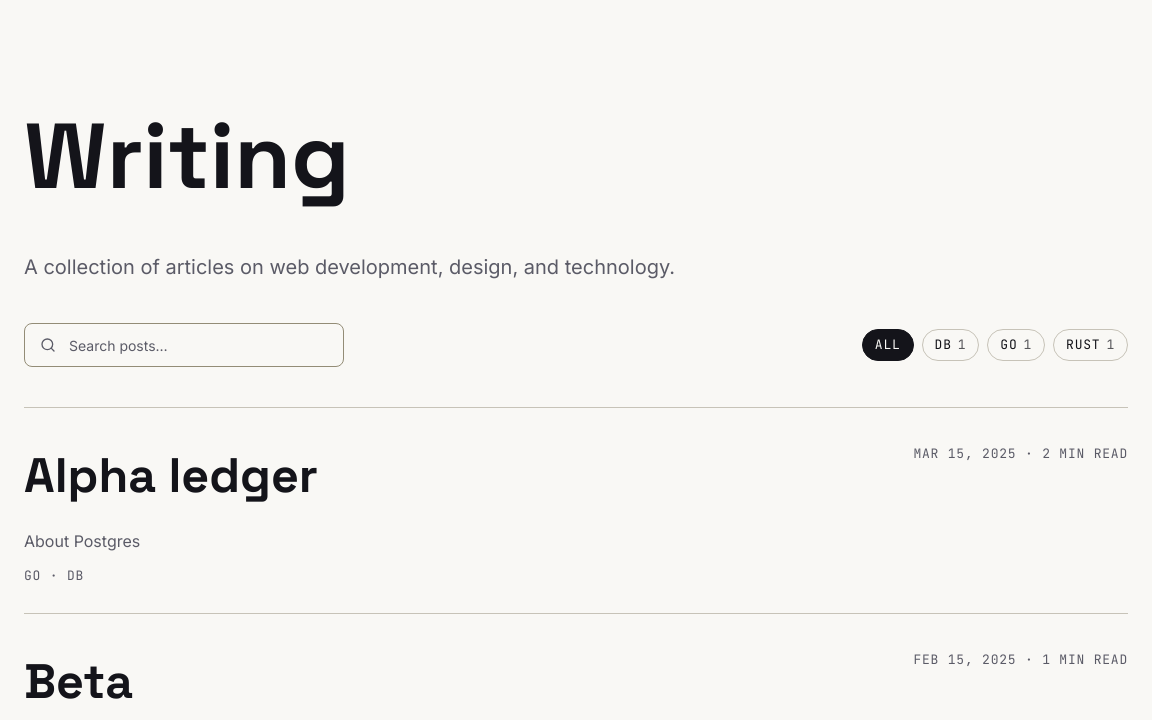
ImmersiveBlog › narrows the list as you search, and restores it
This screenshot has width=1152, height=720.
Type "postgres" into the search field labelled "Search posts" at [184, 345], box [24, 323, 344, 367]
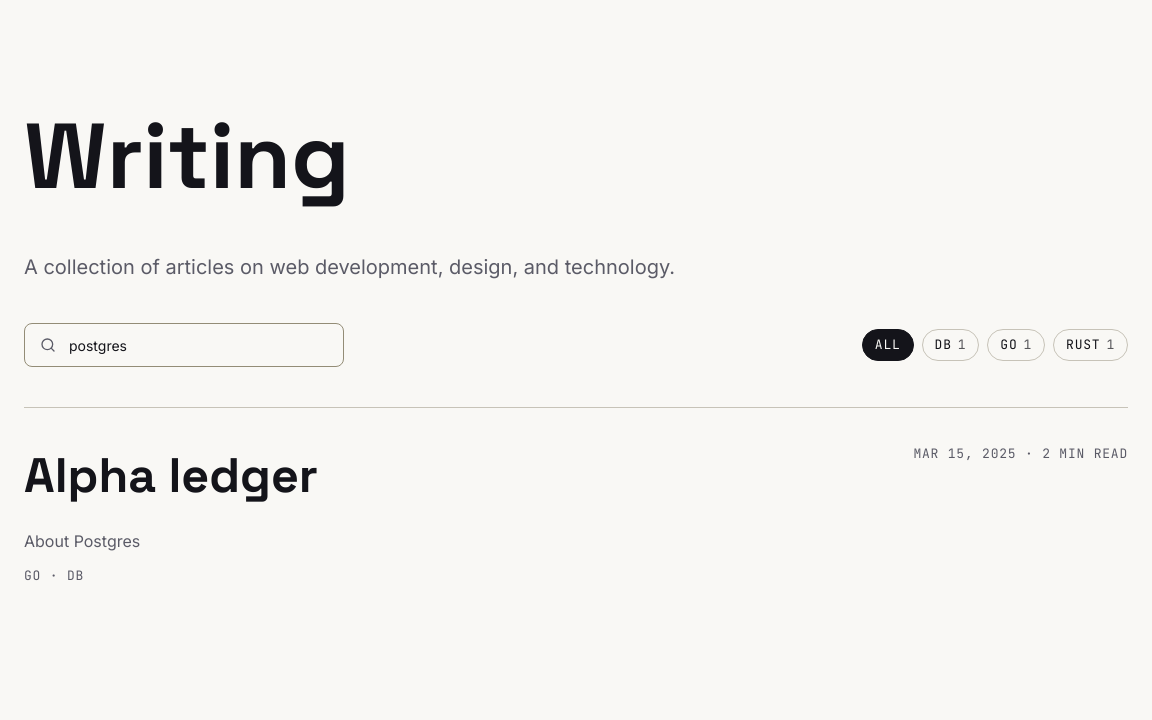
Clear the search field named "Search posts" at [184, 345], box [24, 323, 344, 367]
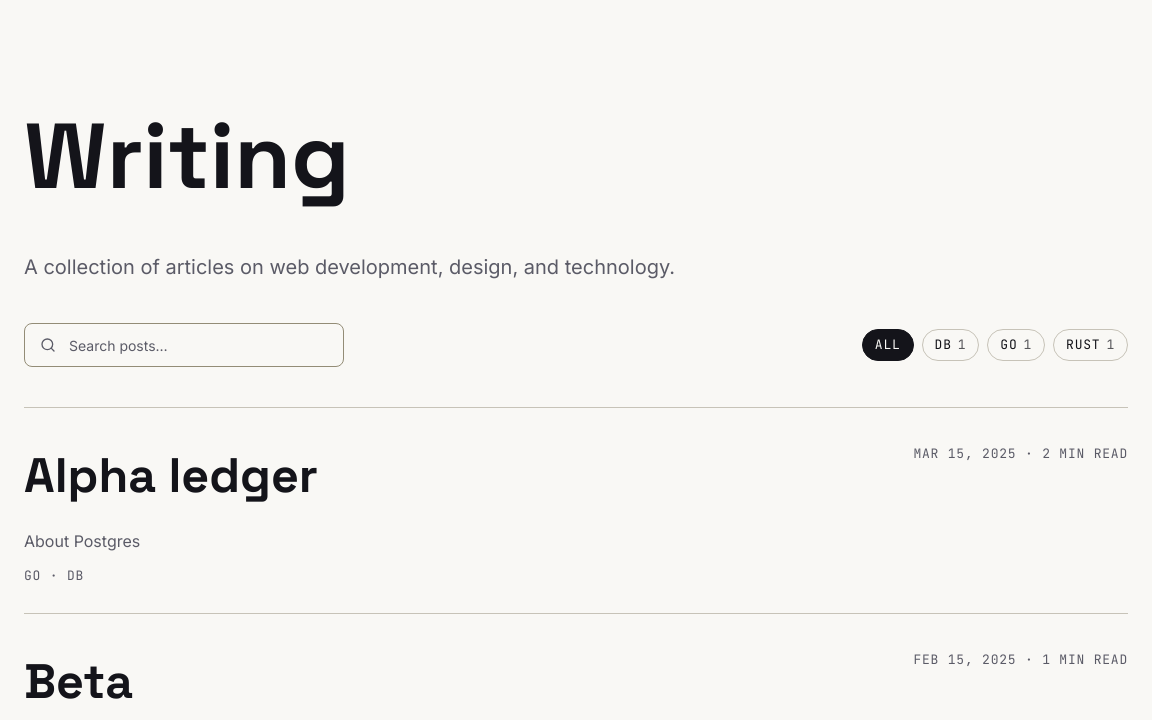
Expected: the number of links is 3
